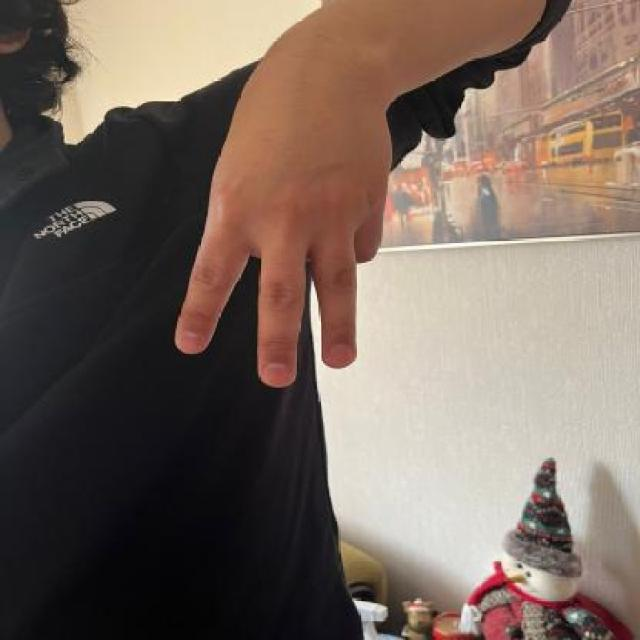M: (177, 68, 392, 387)
